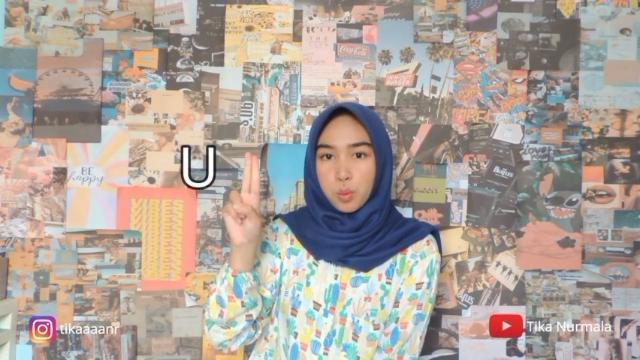U: (223, 148, 269, 248)
